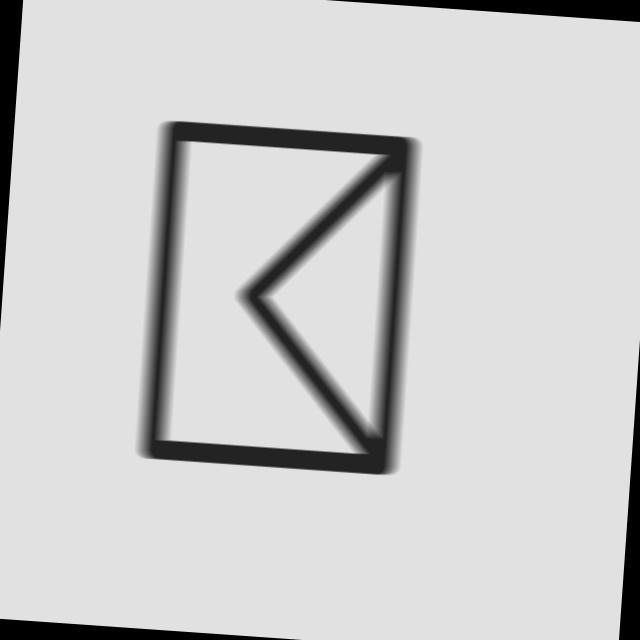letter: (128, 115, 429, 479)
